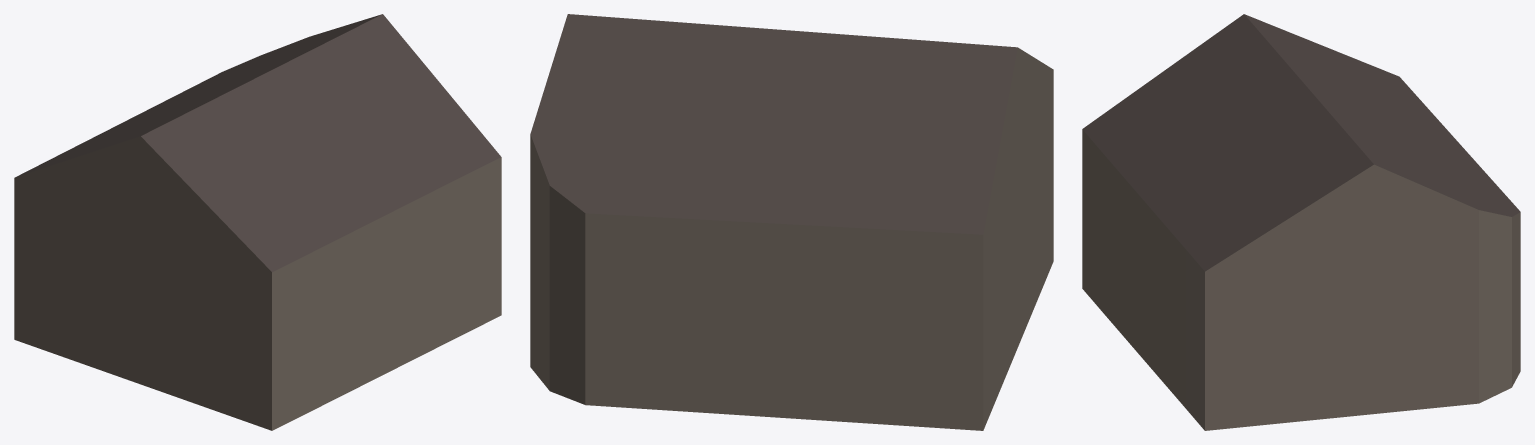
3 views of the same model, side by side, from view 1: azimuth 30°, elevation 25°; view 2: azimuth 150°, elevation 25°; view 3: azimuth 270°, elevation 25° (orthographic). The views are drawn at different scales.
Parts seen in each view (by area): view 1: HP-w1198842224; view 2: HP-w1198842224; view 3: HP-w1198842224.
Boxes of the visible parts, x1,y1,x2,y2 form: HP-w1198842224: [14, 14, 501, 430]; HP-w1198842224: [530, 14, 1053, 430]; HP-w1198842224: [1082, 14, 1520, 430].
Bounding box in the file's own units: 23.2 × 14.1 × 22.46.
